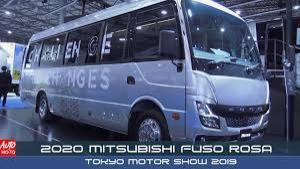bus: (19, 0, 271, 144)
